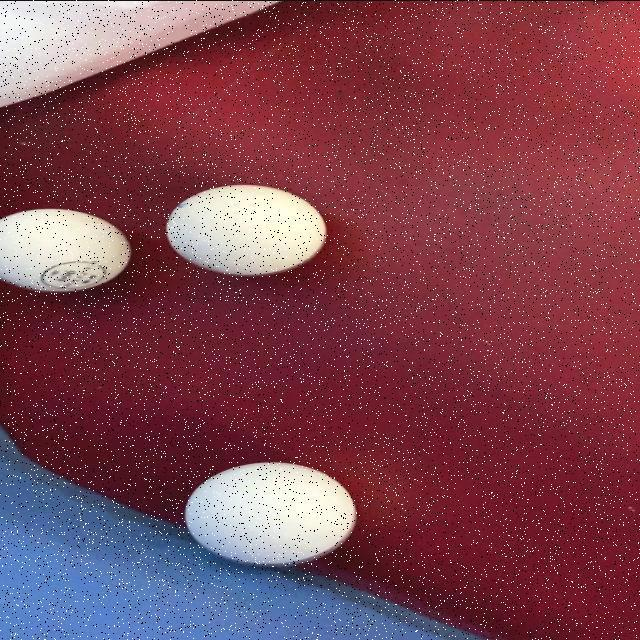ping-pong-ball: (179, 458, 359, 567), (160, 182, 330, 278), (1, 204, 134, 296)
